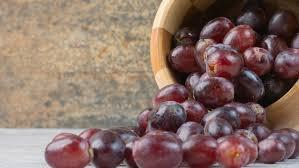Grape Rotten: (44, 1, 298, 168)
